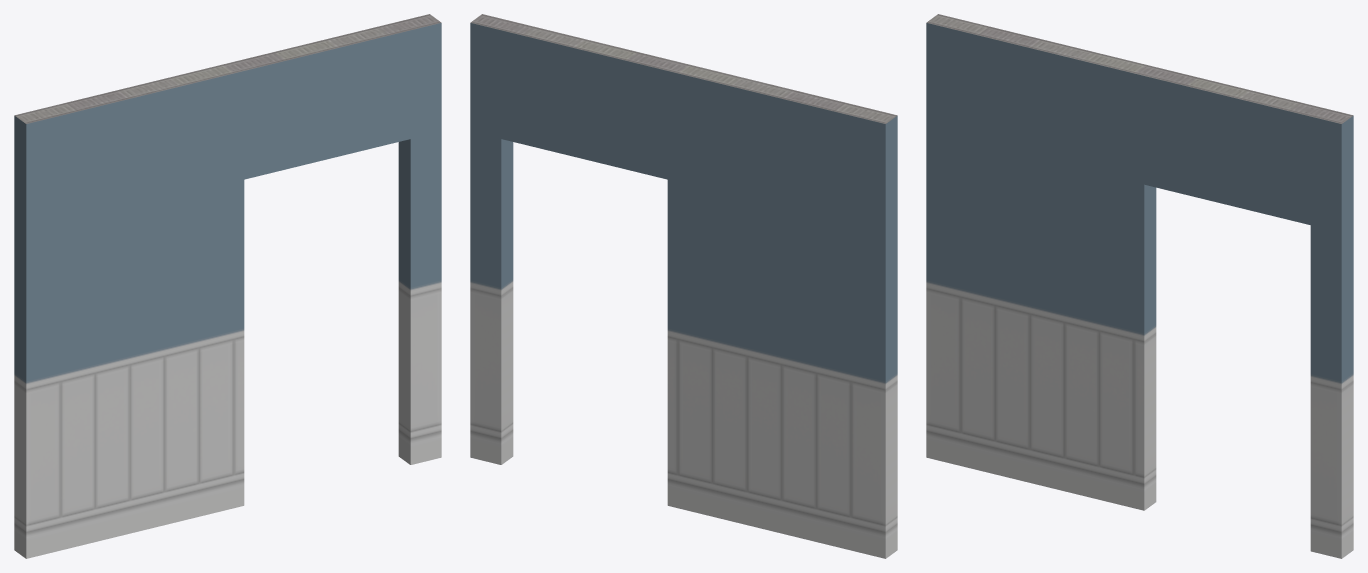
The model's file is wall7_3.fbx.
3 renders of one model, left to right at view 1: azimuth 30°, elevation 25°; view 2: azimuth 150°, elevation 25°; view 3: azimuth 330°, elevation 25°, orthographic.
Parts seen in each view (by area): view 1: wall7_bathroom_c; view 2: wall7_bathroom_c; view 3: wall7_bathroom_c.
Part boxes in pixels (<box>): wall7_bathroom_c: <box>14,14,441,558</box>; wall7_bathroom_c: <box>470,14,897,558</box>; wall7_bathroom_c: <box>926,14,1353,558</box>.
Size of the model in its own units: 400 by 400 by 20.
